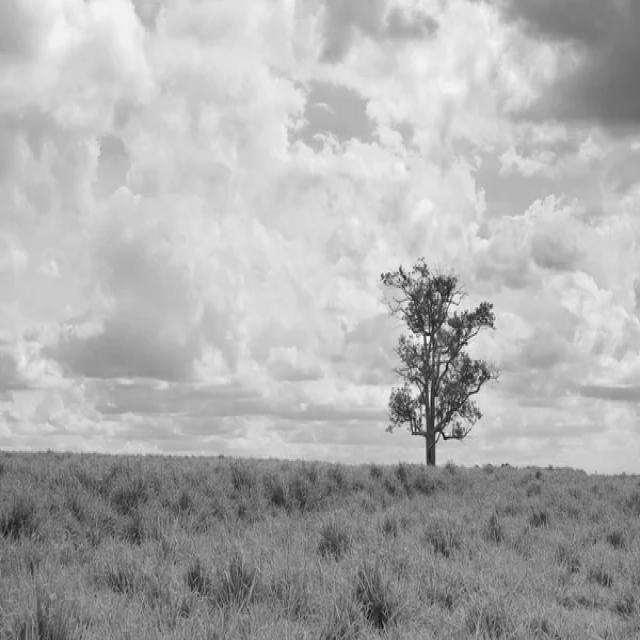Tree: (382, 259, 498, 466)
